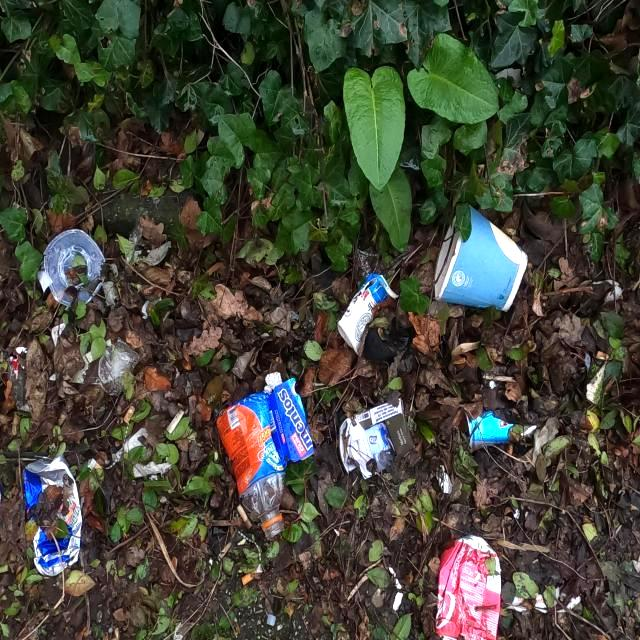Coffee Cup: (434, 203, 528, 313), (337, 272, 399, 356), (464, 411, 538, 454)
Metal: (22, 453, 84, 579), (432, 532, 502, 640)
Paper: (338, 396, 416, 480)
Plastic: (234, 376, 316, 469)
